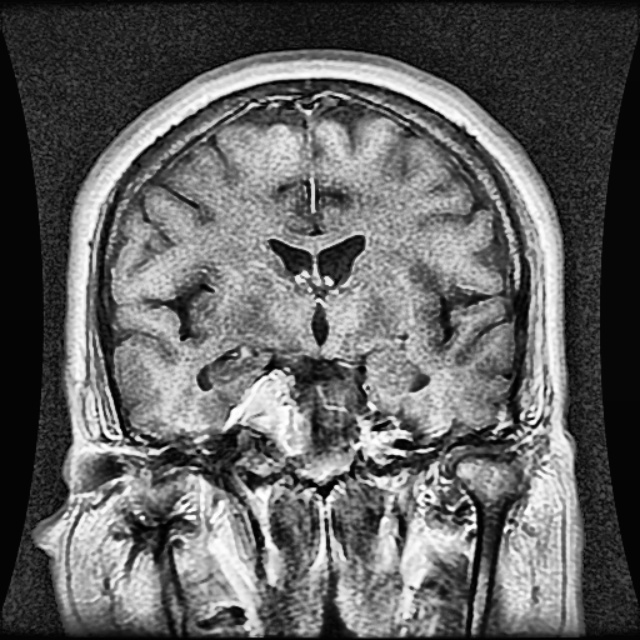Glioma: (227, 370, 310, 455)
